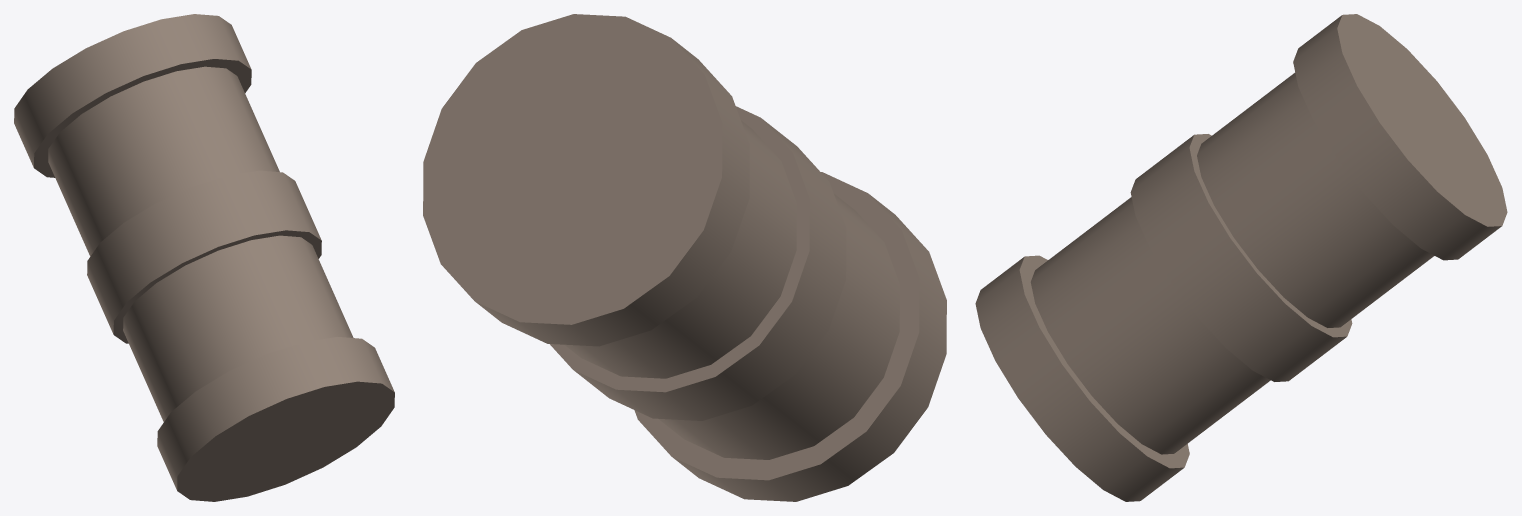
Rendered from cluster_dispenser_canister.glb.
The picture shows the model from 3 angles, left to right: view 1: azimuth 30°, elevation 25°; view 2: azimuth 150°, elevation 25°; view 3: azimuth 270°, elevation 25°; orthographic projection. The views are drawn at different scales.
Visible parts, largest first — view 1: cluster_dispenser_canister; view 2: cluster_dispenser_canister; view 3: cluster_dispenser_canister.
Part boxes in pixels (left/top/right/bottom): cluster_dispenser_canister: left=14, top=14, right=394, bottom=501; cluster_dispenser_canister: left=423, top=14, right=946, bottom=501; cluster_dispenser_canister: left=975, top=14, right=1507, bottom=501.
Size of the model in its own units: 0.1359 by 0.2638 by 0.2772.
